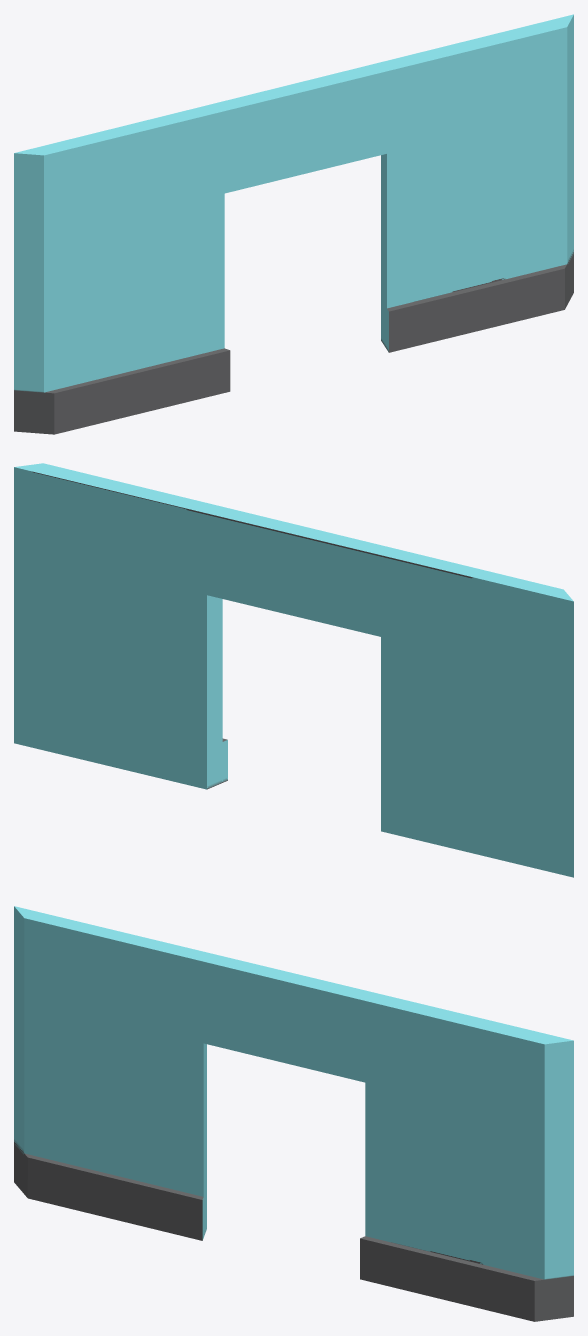
Rendered from wall_with_door.fbx.
The picture shows the model from 3 angles, top to bottom: view 1: azimuth 30°, elevation 25°; view 2: azimuth 150°, elevation 25°; view 3: azimuth 330°, elevation 25°; orthographic projection.
Parts seen in each view (by area): view 1: wall01.003; view 2: wall01.003; view 3: wall01.003.
Boxes of the visible parts, x1,y1,x2,y2 form: wall01.003: [14, 14, 573, 434]; wall01.003: [14, 463, 573, 877]; wall01.003: [14, 906, 573, 1321].
Bounding box in the file's own units: 1357 × 642 × 64.76.
Materials: 1 (1 with a texture image).
